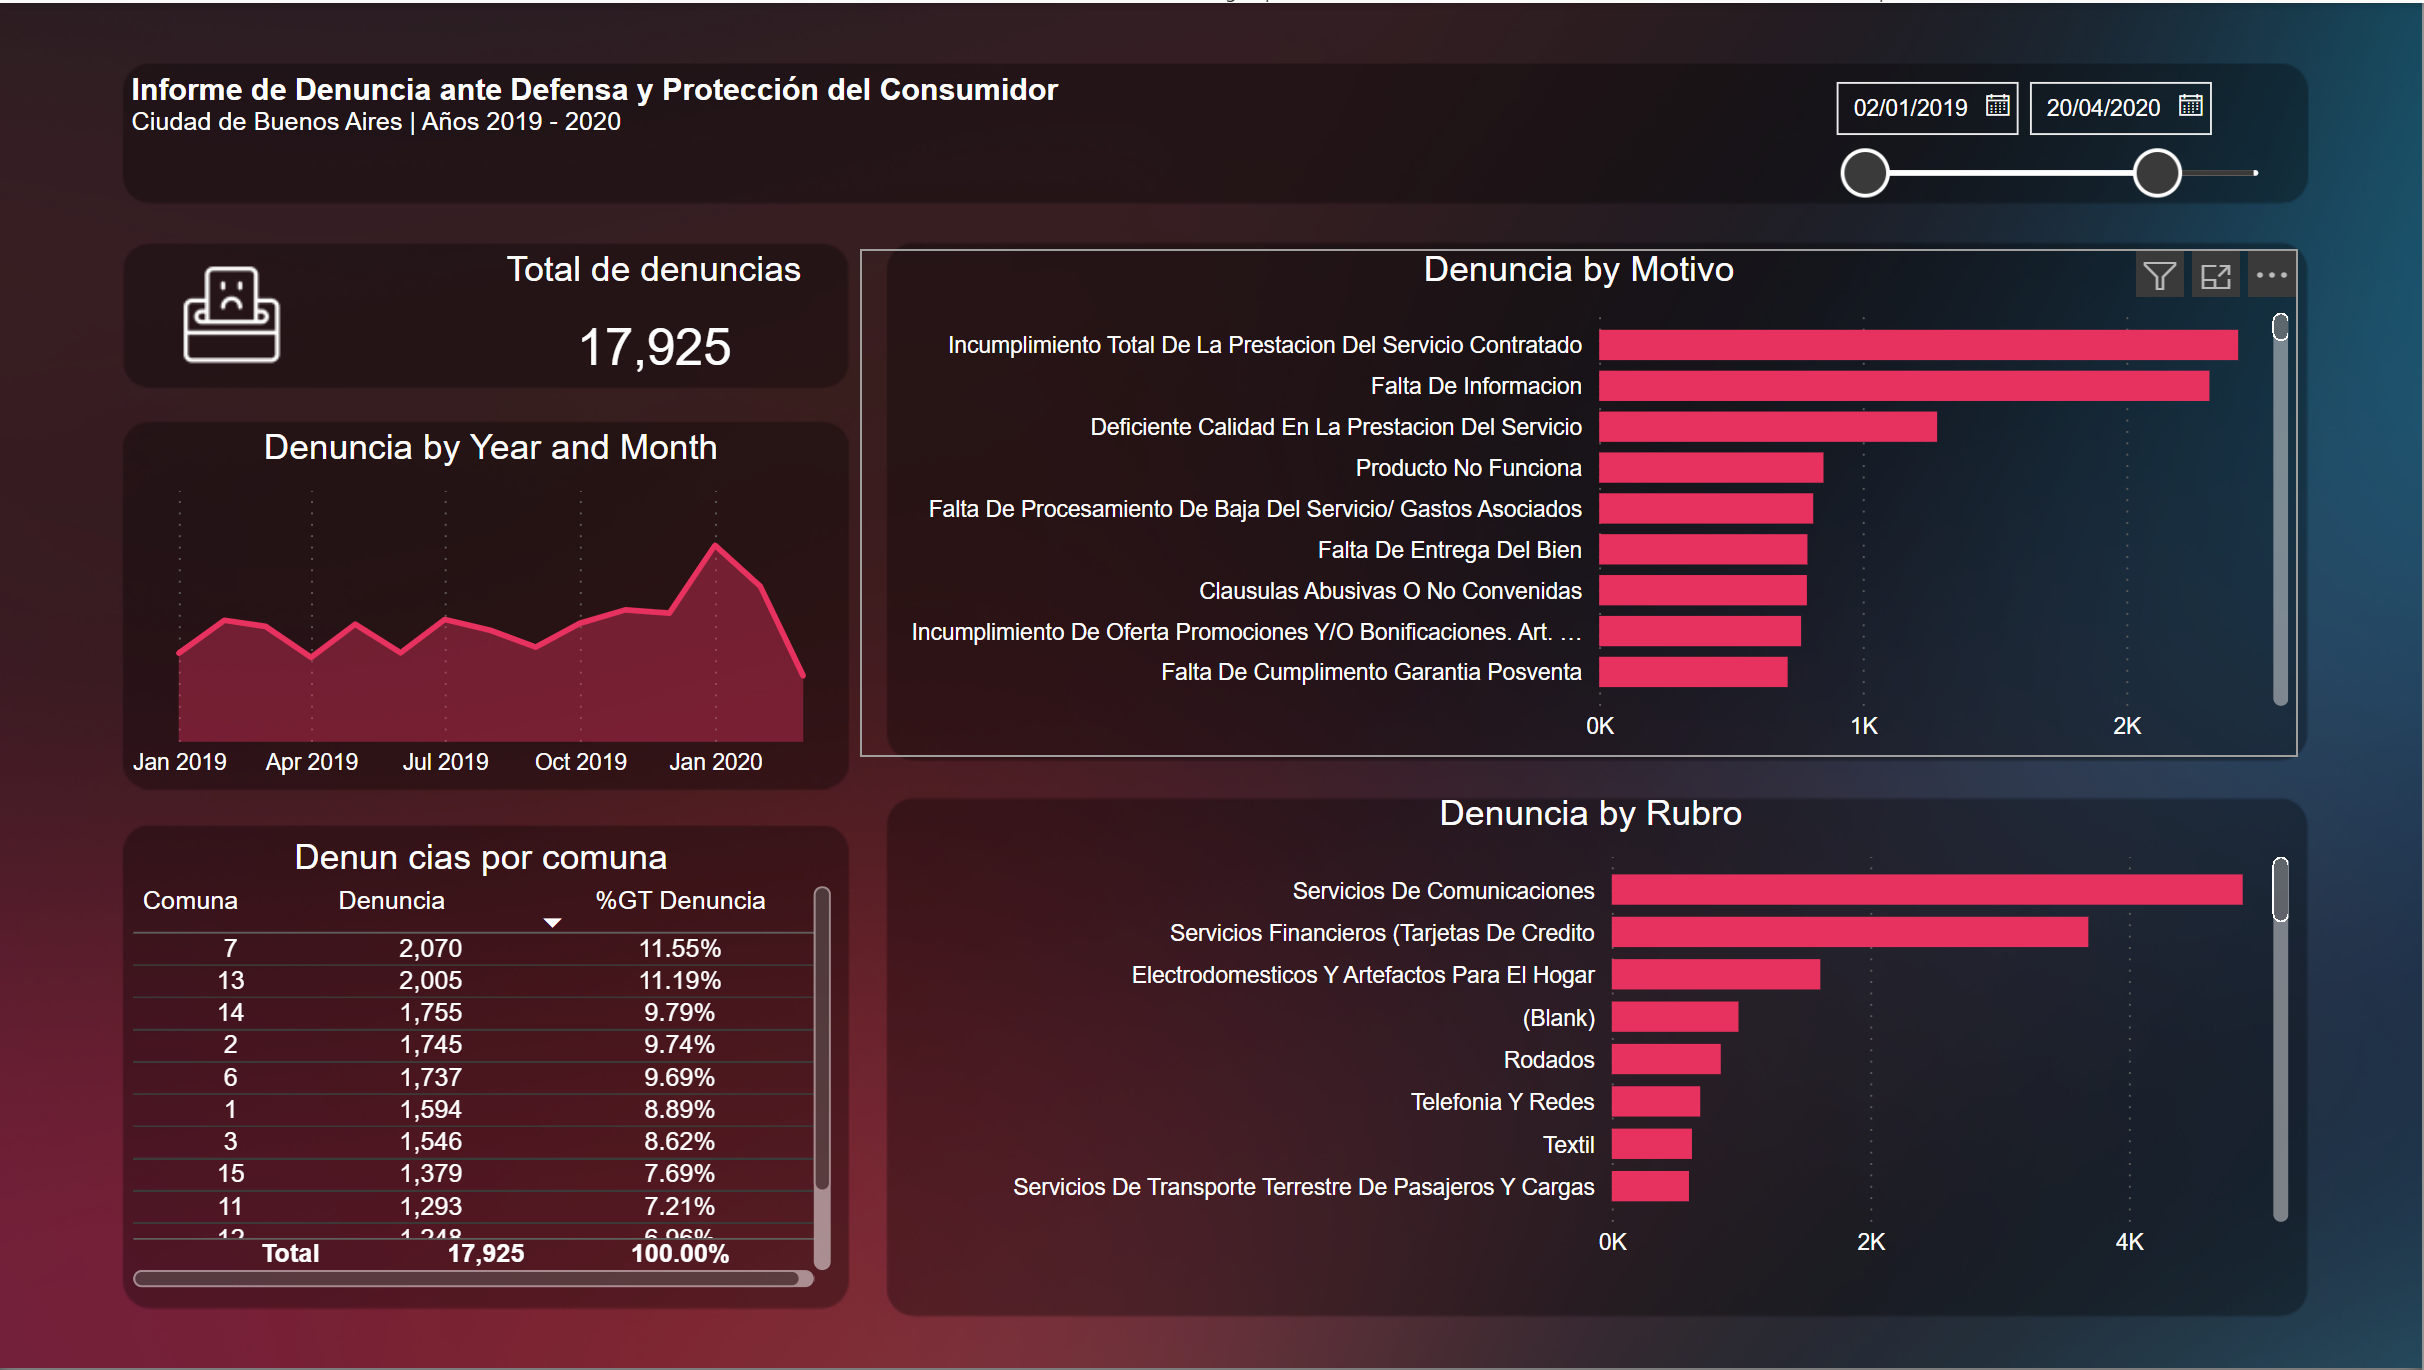

What the dashboard file says about the page in this screenshot:
{"tool":"powerbi","page":{"name":"Page 1","canvas":[1280,720],"ordinal":0},"visuals":[{"type":"card","title":"Total de denuncias","fields":{"Values":["denuncia-defensa.Denuncia"]},"box":[249,129.8,196.3,82.3],"z":0},{"type":"areaChart","fields":{"Y":["denuncia-defensa.Denuncia"],"Category":["denuncia-defensa.Date.Variation.Date Hierarchy.Year","denuncia-defensa.Date.Variation.Date Hierarchy.Month"]},"box":[66.5,223.7,389.4,193.1],"z":1000},{"type":"barChart","fields":{"Category":["denuncia-defensa.Motivo"],"Y":["denuncia-defensa.Denuncia"]},"box":[455.9,129.8,758.7,268],"z":2000},{"type":"barChart","fields":{"Y":["denuncia-defensa.Denuncia"],"Category":["denuncia-defensa.Rubro"]},"box":[468.5,416.8,746.1,253.3],"z":3000},{"type":"tableEx","title":"Denun cias por comuna","fields":{"Values":["denuncia-defensa.Comuna","denuncia-defensa.Denuncia","Divide(denuncia-defensa.Denuncia, ScopedEval(denuncia-defensa.Denuncia, []))"]},"box":[66.5,440,378.8,242.7],"z":4000},{"type":"slicer","fields":{"Values":["denuncia-defensa.Date"]},"box":[958.2,31.7,256.4,72.8],"z":5000},{"type":"textbox","box":[66.5,31.7,506.5,47.5],"z":6000}]}

Visuals, with their boxes in screenshot pixels (x1, y1, x2, y2), scaled from the page's 1280x720 canvas onto the 2424x1370 screenshot:
"Total de denuncias" card: locate(472, 247, 843, 404)
areaChart - denuncia-defensa.Denuncia x denuncia-defensa.Date.Variation.Date Hierarchy.Year: locate(126, 426, 863, 793)
barChart - denuncia-defensa.Motivo x denuncia-defensa.Denuncia: locate(863, 247, 2300, 757)
barChart - denuncia-defensa.Denuncia x denuncia-defensa.Rubro: locate(887, 793, 2300, 1275)
"Denun cias por comuna" tableEx: locate(126, 837, 843, 1299)
slicer - denuncia-defensa.Date: locate(1815, 60, 2300, 199)
textbox: locate(126, 60, 1085, 151)
